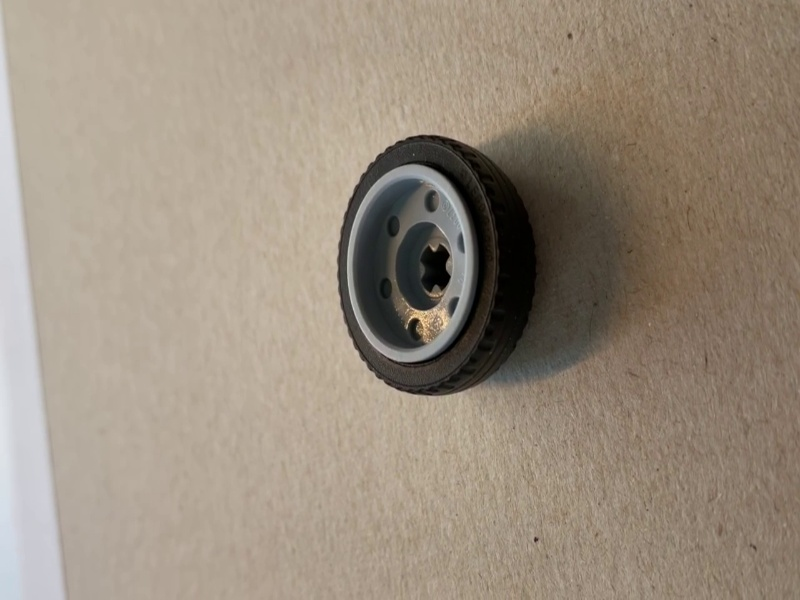tire: (336, 134, 542, 397)
